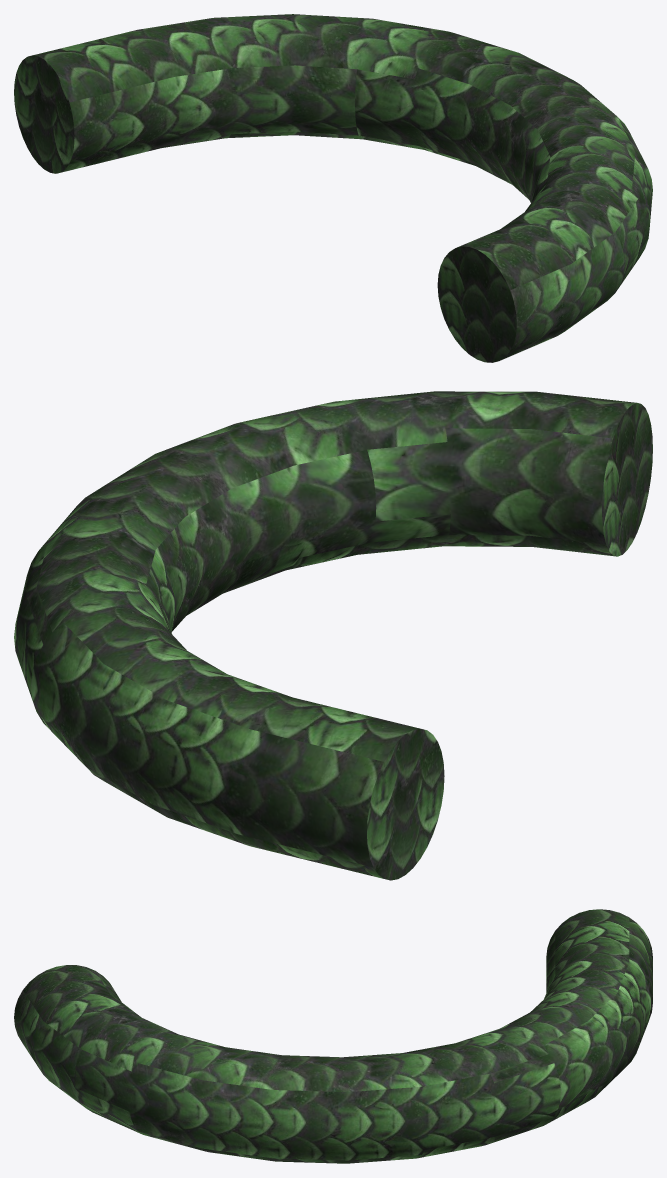
File: _nek.fbx
3 views of the same model, one above another, from view 1: azimuth 30°, elevation 25°; view 2: azimuth 150°, elevation 25°; view 3: azimuth 270°, elevation 25° (orthographic). The views are drawn at different scales.
Parts seen in each view (by area): view 1: Cylinder.002; view 2: Cylinder.002; view 3: Cylinder.002.
Part boxes in pixels (x1=…): Cylinder.002: x1=14, y1=14, x2=652, y2=362; Cylinder.002: x1=14, y1=391, x2=652, y2=880; Cylinder.002: x1=14, y1=909, x2=652, y2=1163.
Size of the model in its own units: 778 by 200 by 1198.
Materials: 1 (1 with a texture image).
